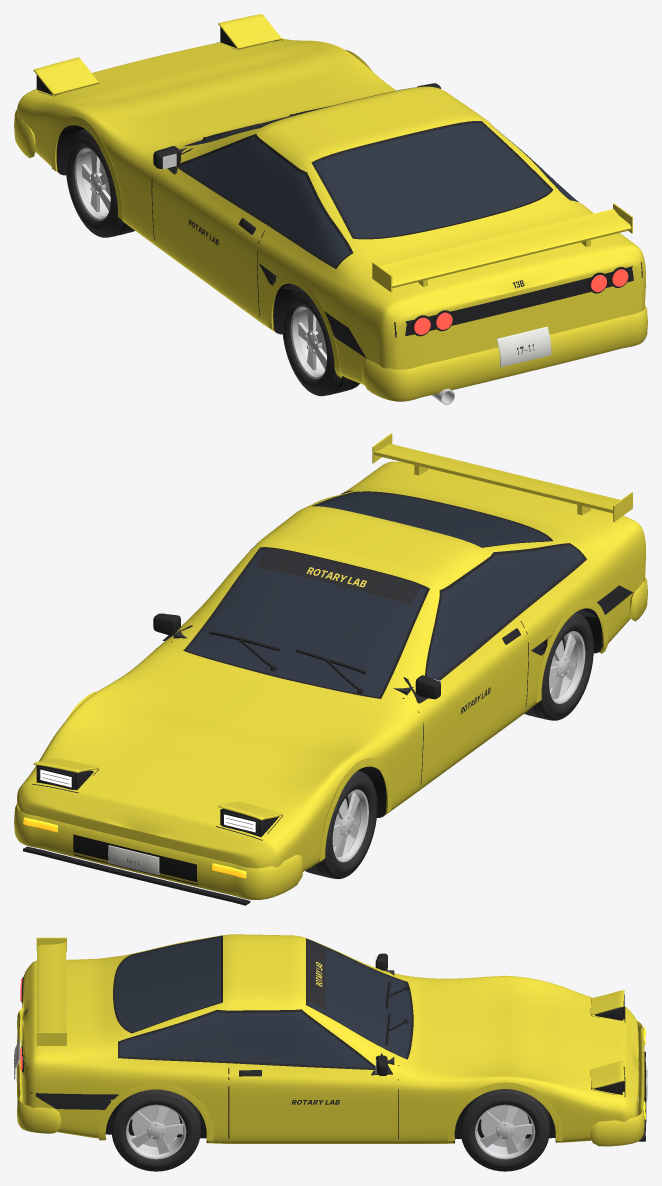
3 views of the same model, one above another, from view 1: azimuth 30°, elevation 25°; view 2: azimuth 150°, elevation 25°; view 3: azimuth 270°, elevation 25° (orthographic). The views are drawn at different scales.
Visible parts, largest first — view 1: Body, Wheel_RL, Wheel_FL, Popup_L, Popup_R; view 2: Body, Wheel_FL, Wheel_RL, Popup_L, Popup_R; view 3: Body, Wheel_FR, Wheel_RR, Popup_R, Popup_L.
Part boxes in pixels (box(x1,y1,x2,y2)): Body: box(14, 38, 647, 404); Wheel_RL: box(282, 288, 359, 396); Wheel_FL: box(65, 129, 134, 237); Popup_L: box(33, 57, 98, 95); Popup_R: box(218, 14, 282, 49); Body: box(14, 433, 647, 905); Wheel_FL: box(305, 770, 377, 879); Wheel_RL: box(524, 612, 593, 720); Popup_L: box(218, 801, 282, 837); Popup_R: box(33, 758, 98, 790); Body: box(14, 934, 647, 1146); Wheel_FR: box(460, 1089, 549, 1171); Wheel_RR: box(111, 1089, 200, 1171); Popup_R: box(590, 1061, 624, 1094); Popup_L: box(590, 990, 624, 1020).
Size of the model in its own units: 1.84 by 1.21 by 4.41.
